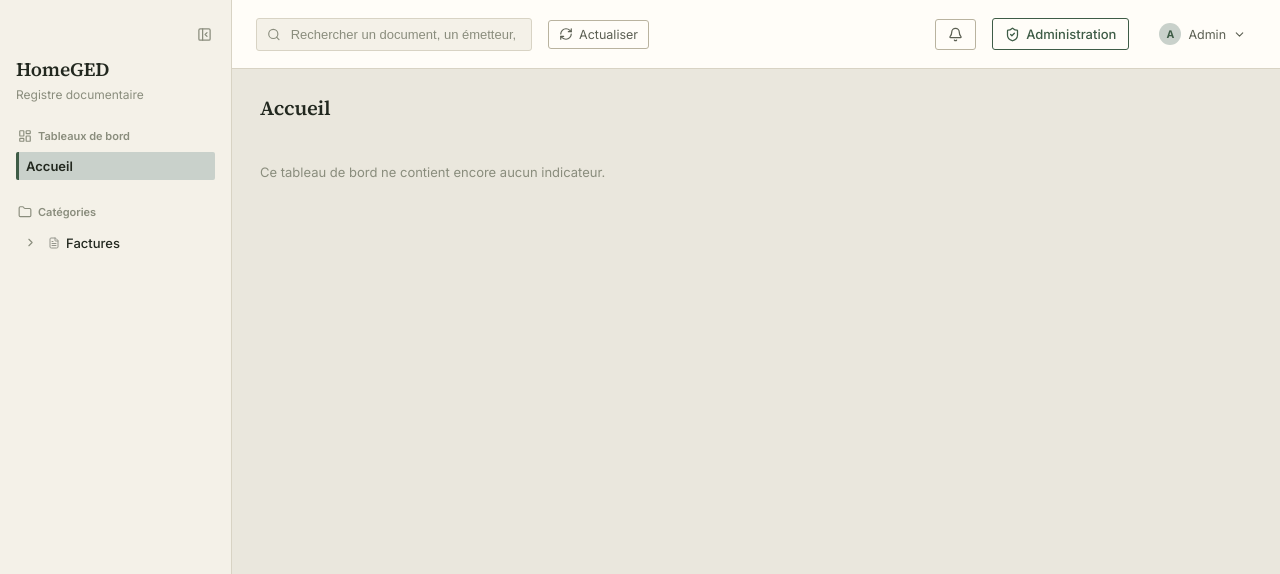
Test case: sélection dans le registre › retient la ligne cliquée et propose ce qu'on peut en faire
The width and height of the screenshot is (1280, 574).
Click the button "Factures". click: (128, 242)
box: [40,228,215,256]
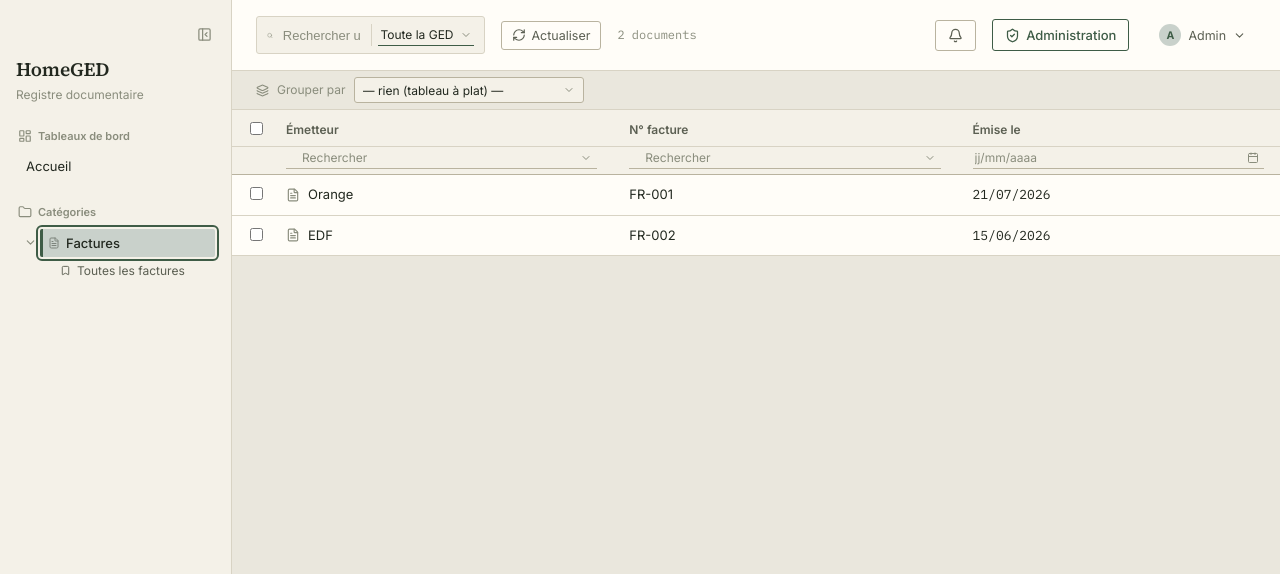
Check: the text "Orange" is shown
Click the text "Orange". click: (320, 194)
box: [286,186,353,202]
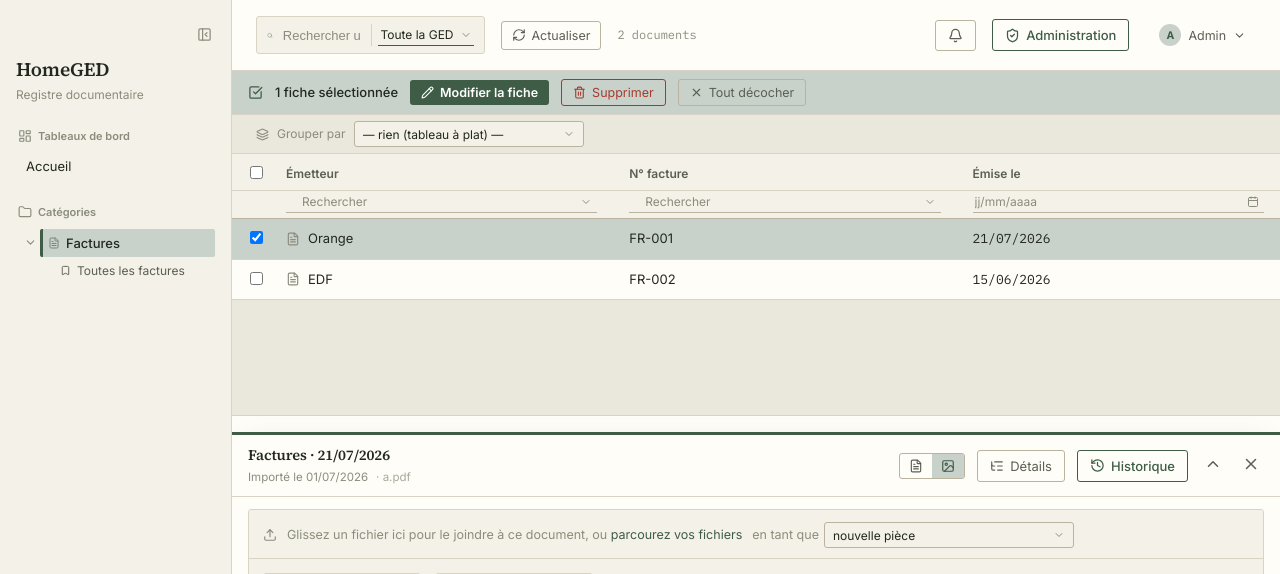
Check: the text "1 fiche sélectionnée" is shown, box [275,83,398,102]
Check: the button "Modifier la fiche" is shown, box [410,80,549,105]
